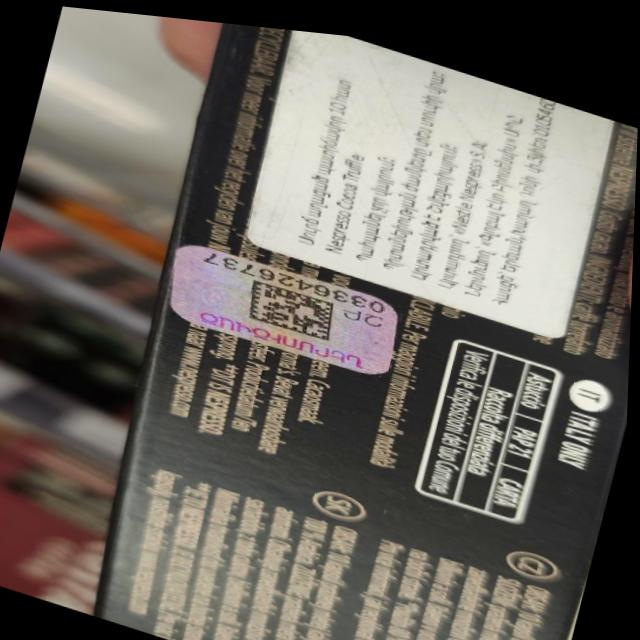datamatrix: (242, 270, 343, 338)
